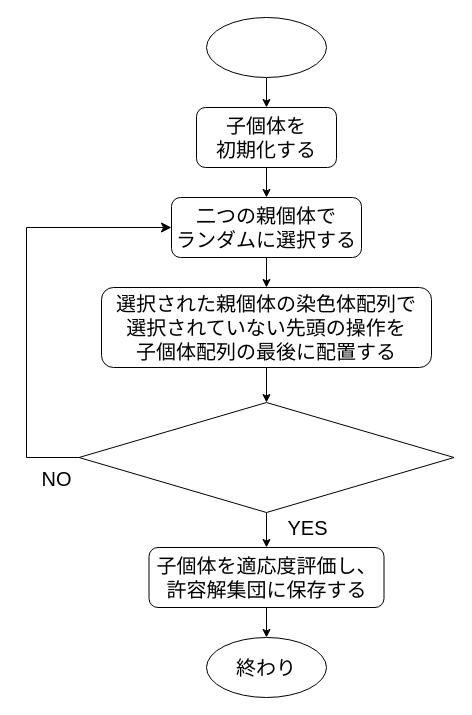
Some shapes in this 472 by 715 pixel diagram are drawn without their labels. The box of each missing label's shape, as (x1, y1, x2, y2) in pixels:
すべての加工工程は 子個体配列に配置したか: (78, 402, 454, 512)
開始: (206, 16, 326, 78)
